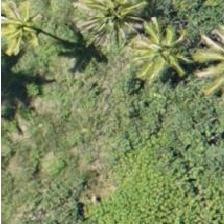coconut_tree: (74, 0, 164, 60)
